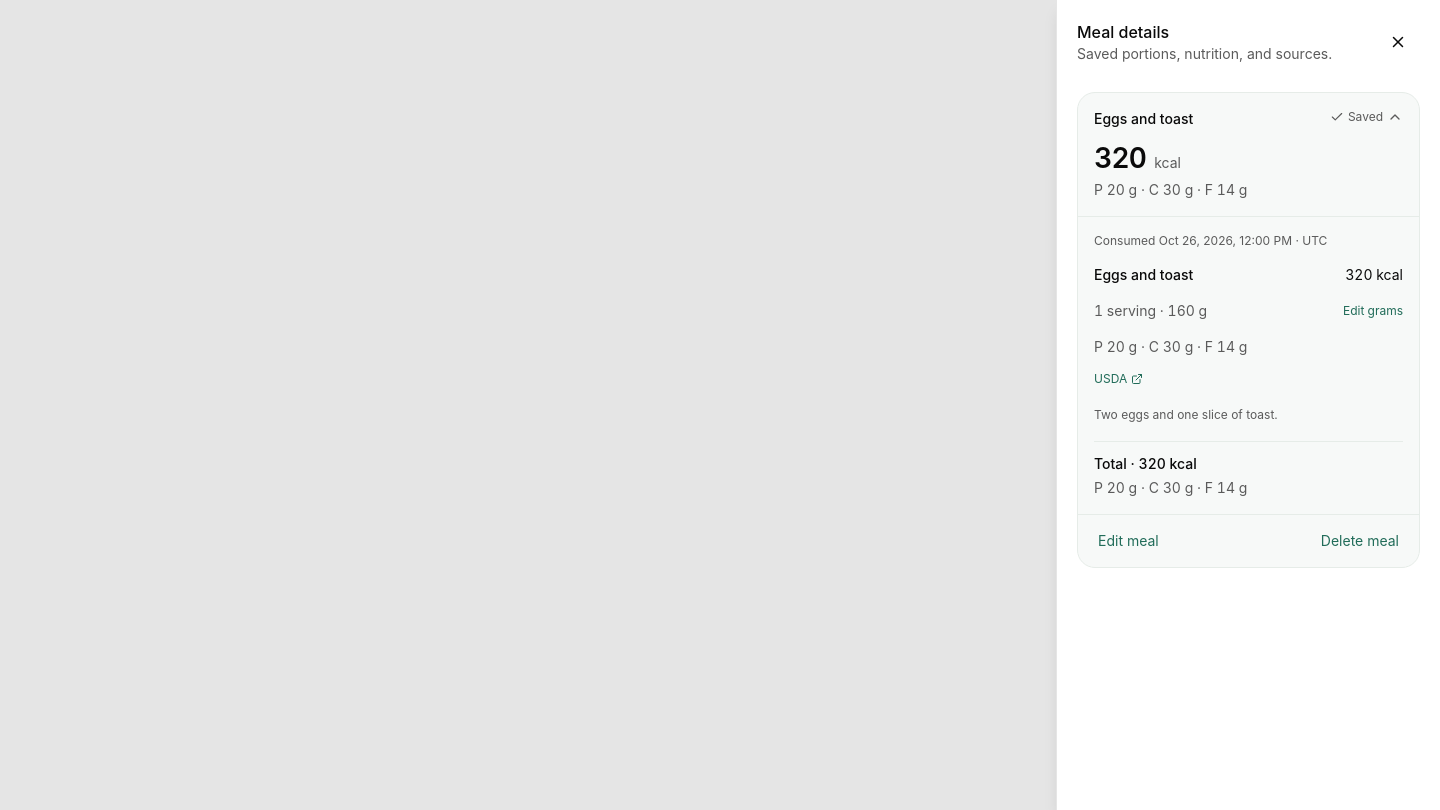
Test: opens the saved card expanded, edits through A7, and shows the returned meal
Expected: the button with aria-label "Edit grams for" is shown, [1094,289,1403,333]
Click the button "Edit meal".
click(1128, 541)  # box [1094,519,1163,563]
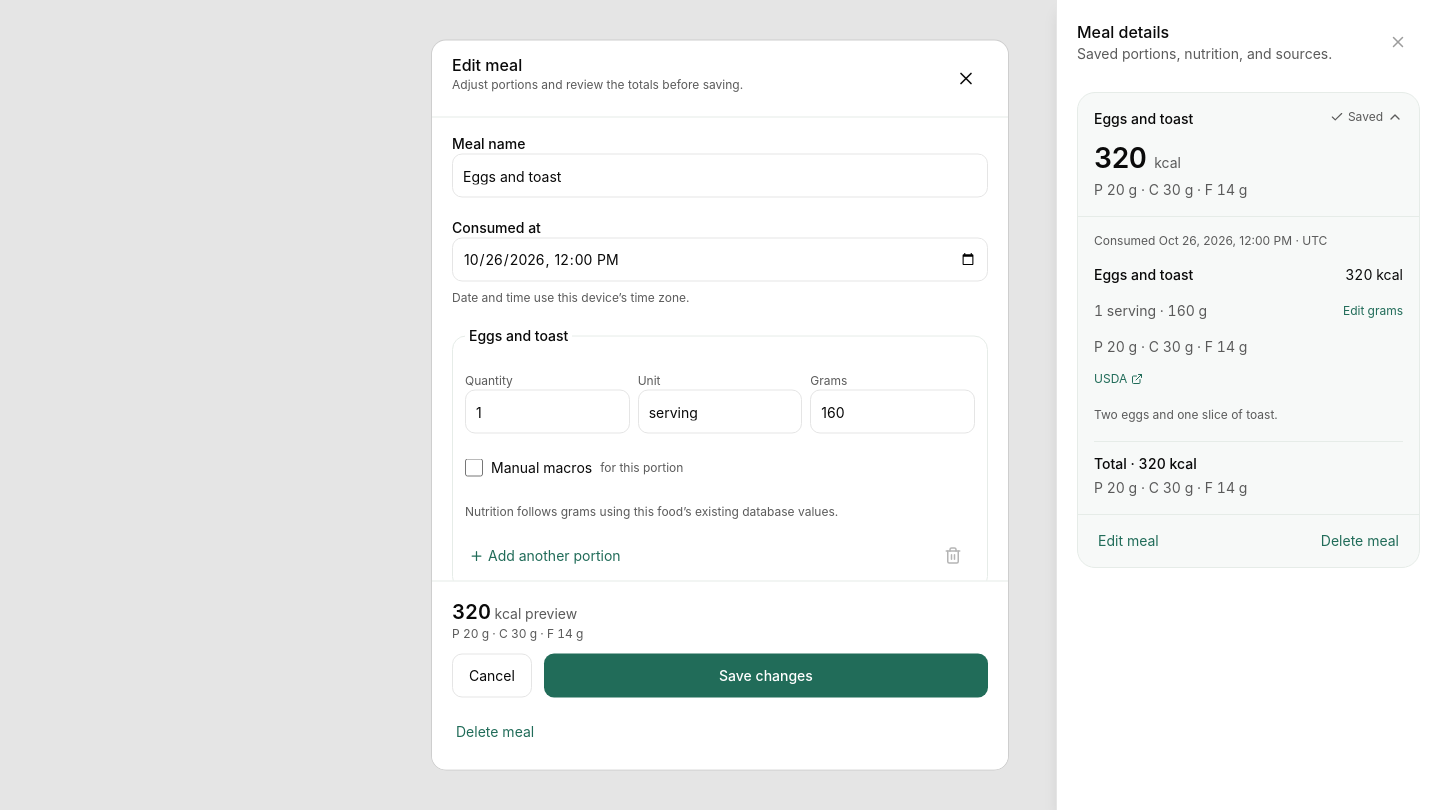
Replace the text in the field labelled "Meal name" with "Edited lunch" at (720, 176), box [452,154,988,198]
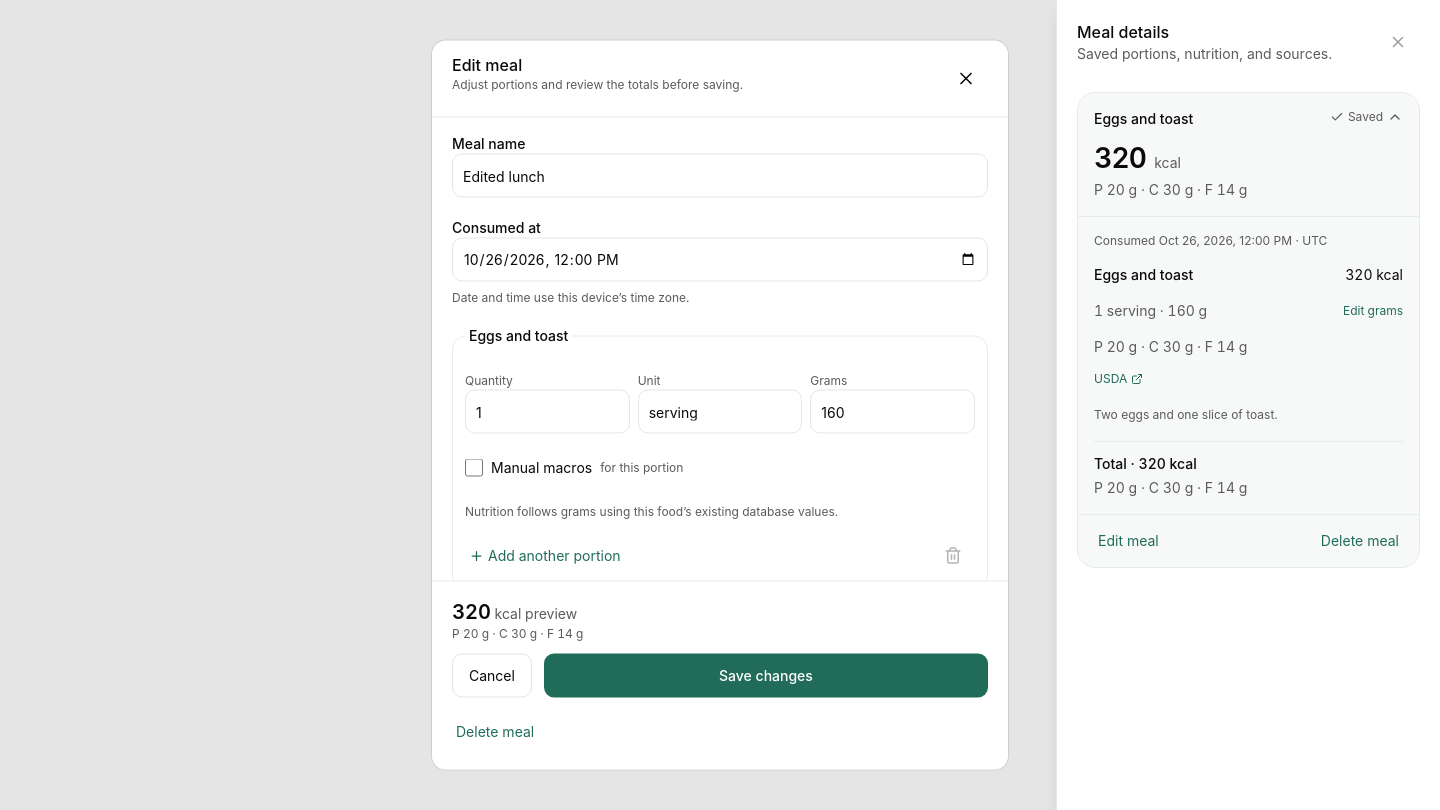
Click the button "Save changes".
click(766, 676)  # box [544,654,988,698]
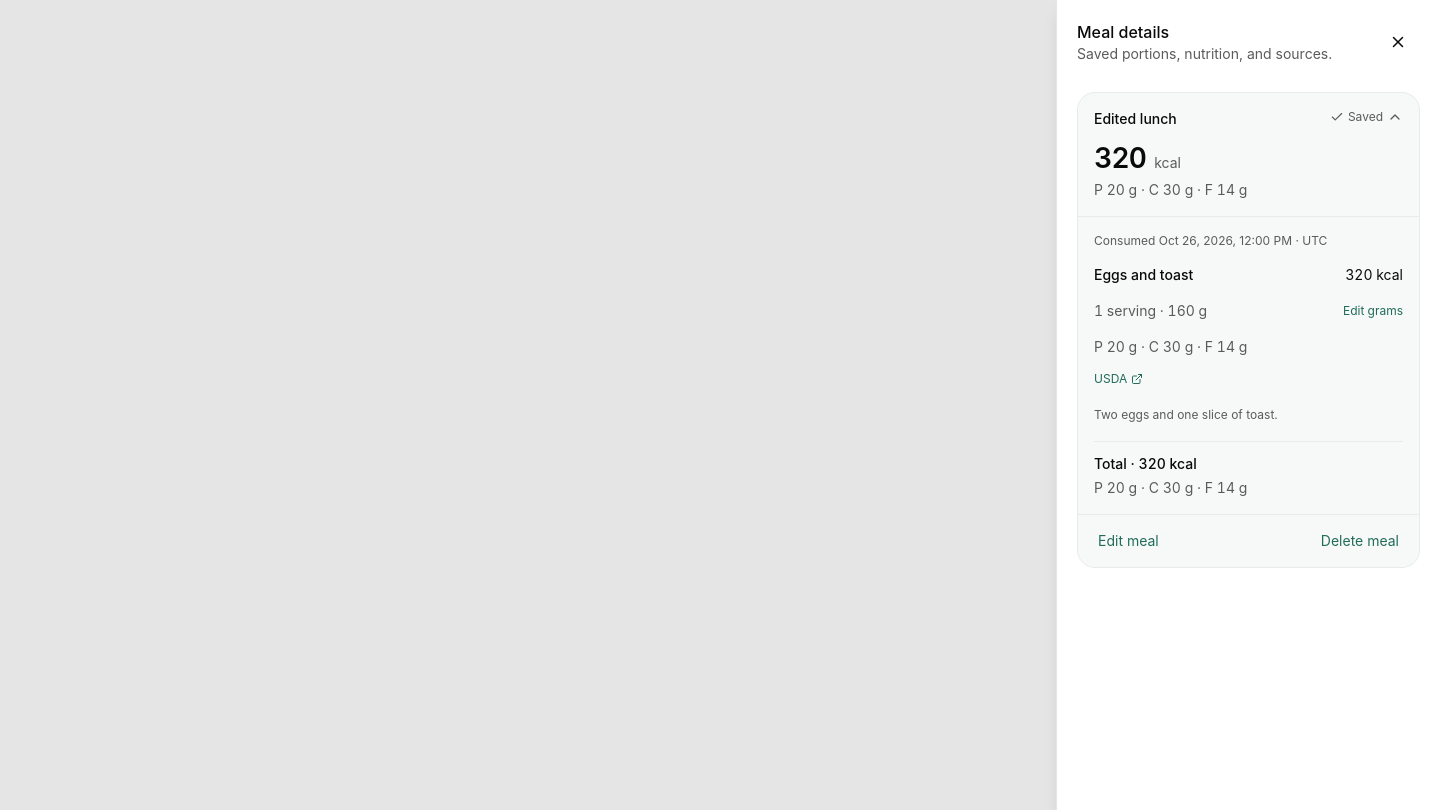
Expected: the button with aria-label "Collapse Edited lunch" is shown, [1078,93,1419,216]
